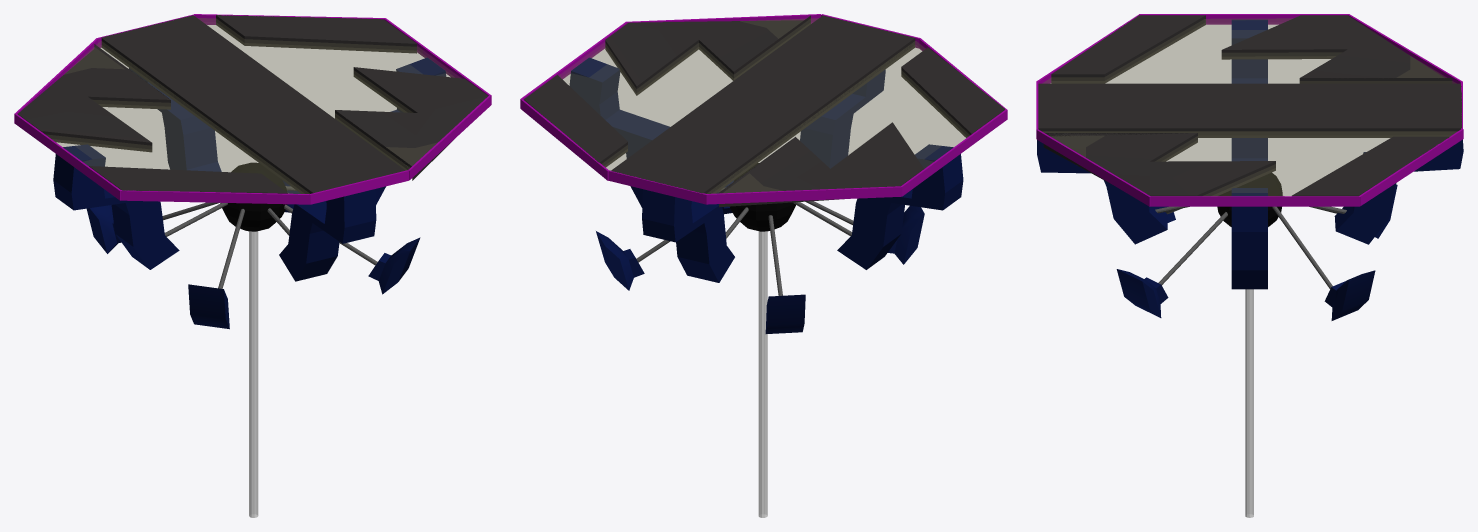
3 views of the same model, side by side, from view 1: azimuth 30°, elevation 25°; view 2: azimuth 150°, elevation 25°; view 3: azimuth 270°, elevation 25° (orthographic).
Parts seen in each view (by area): view 1: pCube1, pasted__pCube4 (×2), pCube4, pCube3, pCube2, pCube7, pCube8, pasted__pCube3, pCube9, pCylinder9, pasted__pasted__pasted__pCube5, pSphere1 (+9 smaller); view 2: pCube1, pasted__pCube4 (×2), pCube4, pCube3, pCube7, pCube9, pasted__pCube3, pCube2, pCube6, pCube8, pCylinder9, pasted__pasted__pCube6 (+9 smaller); view 3: pCube1, pasted__pCube4 (×2), pCube4, pCube3, pasted__pCube3, pCube2, pCube6, pCube8, pCube9, pCube7, pCube5, pCylinder9 (+7 smaller).
Part boxes in pixels (bbox=[...]): pCube1: bbox=[101, 15, 405, 193]; pasted__pCube4 (×2): bbox=[18, 18, 459, 170]; pCube4: bbox=[47, 41, 309, 193]; pCube3: bbox=[335, 67, 487, 180]; pCube2: bbox=[216, 15, 416, 53]; pCube7: bbox=[53, 144, 179, 269]; pCube8: bbox=[279, 189, 376, 281]; pasted__pCube3: bbox=[89, 166, 287, 193]; pCube9: bbox=[129, 68, 221, 171]; pCylinder9: bbox=[249, 231, 258, 517]; pasted__pasted__pasted__pCube5: bbox=[120, 190, 310, 204]; pSphere1: bbox=[220, 162, 287, 231]; pCube1: bbox=[611, 15, 915, 193]; pasted__pCube4 (×2): bbox=[559, 18, 923, 207]; pCube4: bbox=[707, 41, 969, 193]; pCube3: bbox=[605, 15, 810, 95]; pCube7: bbox=[837, 144, 963, 269]; pCube9: bbox=[642, 189, 734, 282]; pasted__pCube3: bbox=[901, 47, 1004, 137]; pCube2: bbox=[524, 75, 627, 167]; pCube6: bbox=[569, 57, 669, 207]; pCube8: bbox=[800, 69, 885, 168]; pCylinder9: bbox=[758, 231, 767, 517]; pasted__pasted__pCube6: bbox=[707, 186, 902, 204]; pCube1: bbox=[1038, 83, 1461, 137]; pasted__pCube4 (×2): bbox=[1042, 15, 1456, 195]; pCube4: bbox=[1042, 18, 1456, 83]; pCube3: bbox=[1043, 133, 1275, 196]; pasted__pCube3: bbox=[1051, 15, 1205, 83]; pCube2: bbox=[1292, 136, 1449, 196]; pCube6: bbox=[1231, 188, 1267, 289]; pCube8: bbox=[1037, 140, 1167, 244]; pCube9: bbox=[1334, 139, 1463, 244]; pCube7: bbox=[1231, 19, 1267, 161]; pCube5: bbox=[1150, 196, 1359, 206]; pCylinder9: bbox=[1245, 289, 1253, 517].
Bounding box in the file's own units: 20.54 × 21.33 × 20.15.
